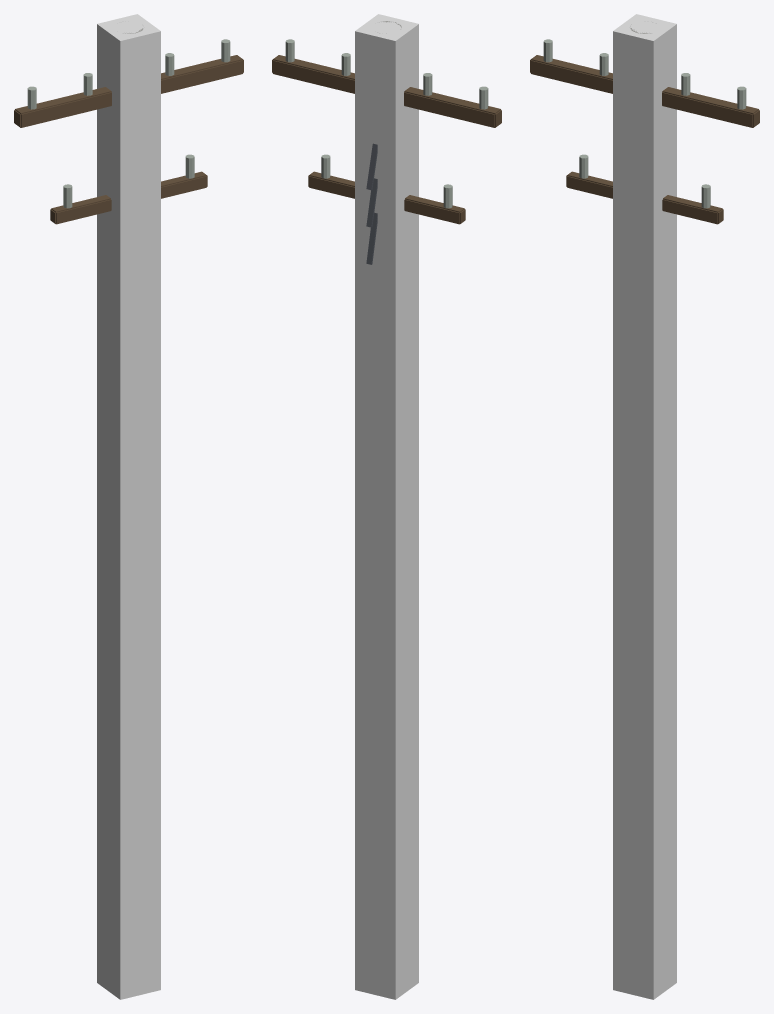
The model's file is power_pole.glb.
3 views of the same model, side by side, from view 1: azimuth 30°, elevation 25°; view 2: azimuth 150°, elevation 25°; view 3: azimuth 330°, elevation 25° (orthographic).
Visible parts, largest first — view 1: power_pole-col, pole_mesh; view 2: power_pole-col, pole_mesh; view 3: power_pole-col, pole_mesh.
Part boxes in pixels (box(x1,y1,x2,y2)): power_pole-col: box(97, 14, 160, 999); pole_mesh: box(14, 28, 243, 224); power_pole-col: box(355, 14, 418, 999); pole_mesh: box(272, 21, 501, 264); power_pole-col: box(613, 14, 676, 999); pole_mesh: box(530, 22, 759, 224).
Bounding box in the file's own units: 2.2 × 9 × 0.5092.
